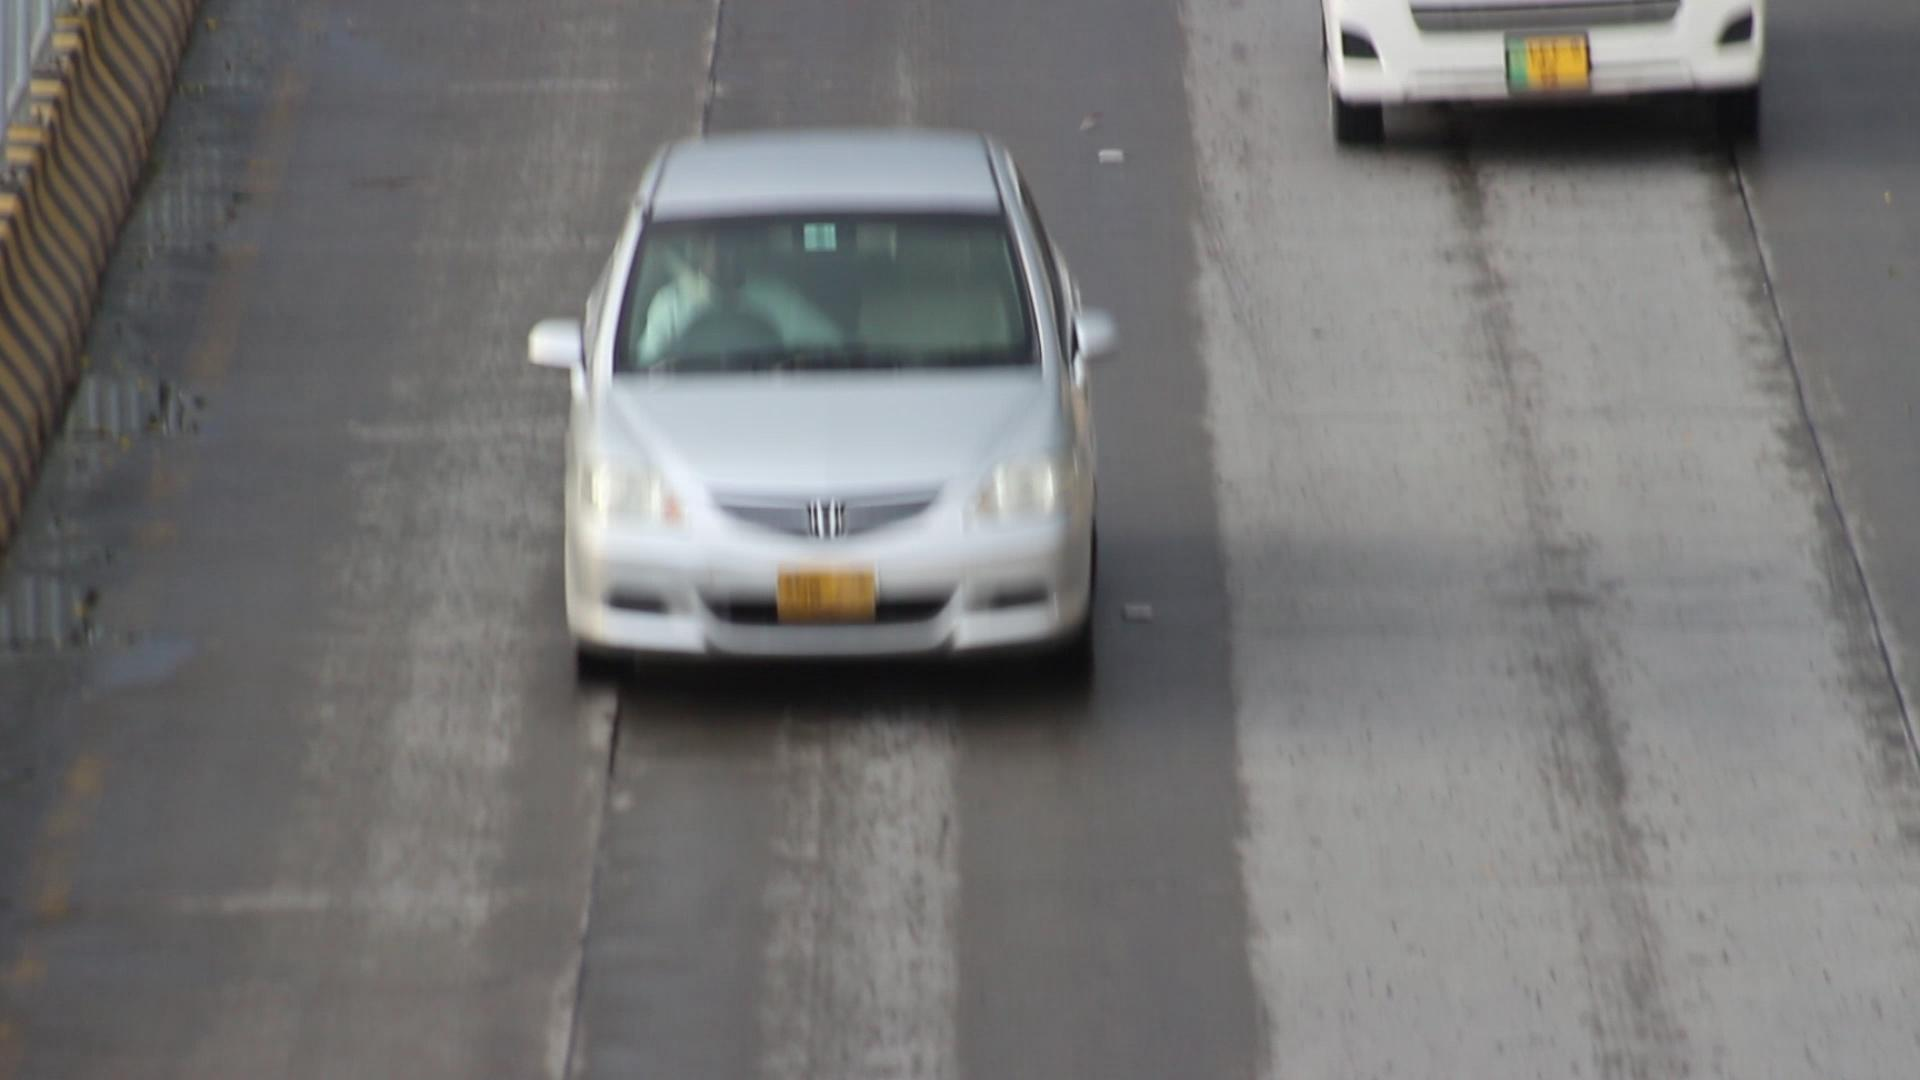windshield: (595, 177, 1060, 390)
